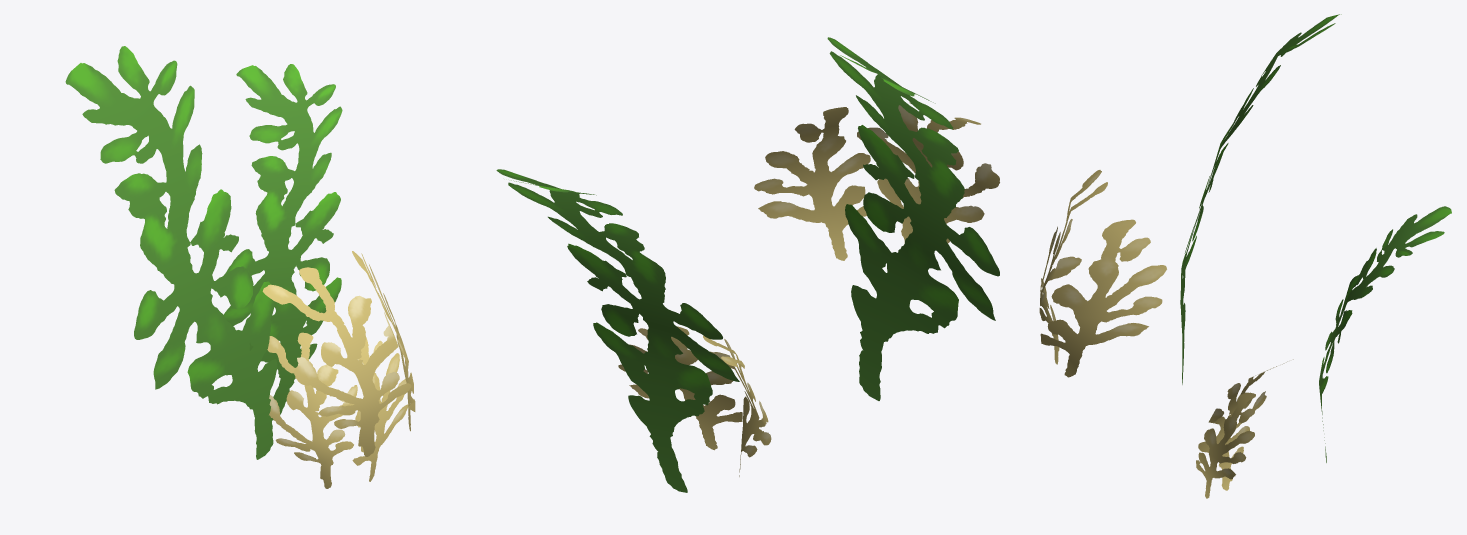
Rendered from flowers_02.fbx.
3 views of the same model, side by side, from view 1: azimuth 30°, elevation 25°; view 2: azimuth 150°, elevation 25°; view 3: azimuth 270°, elevation 25° (orthographic). The views are drawn at different scales.
Visible parts, largest first — view 1: plants3; view 2: plants3; view 3: plants3.
Boxes of the visible parts, x1,y1,x2,y2 form: plants3: (65, 46, 415, 488); plants3: (496, 37, 999, 492); plants3: (1039, 14, 1451, 498).
Bounding box in the file's own units: 0.4345 × 0.4873 × 0.433.
